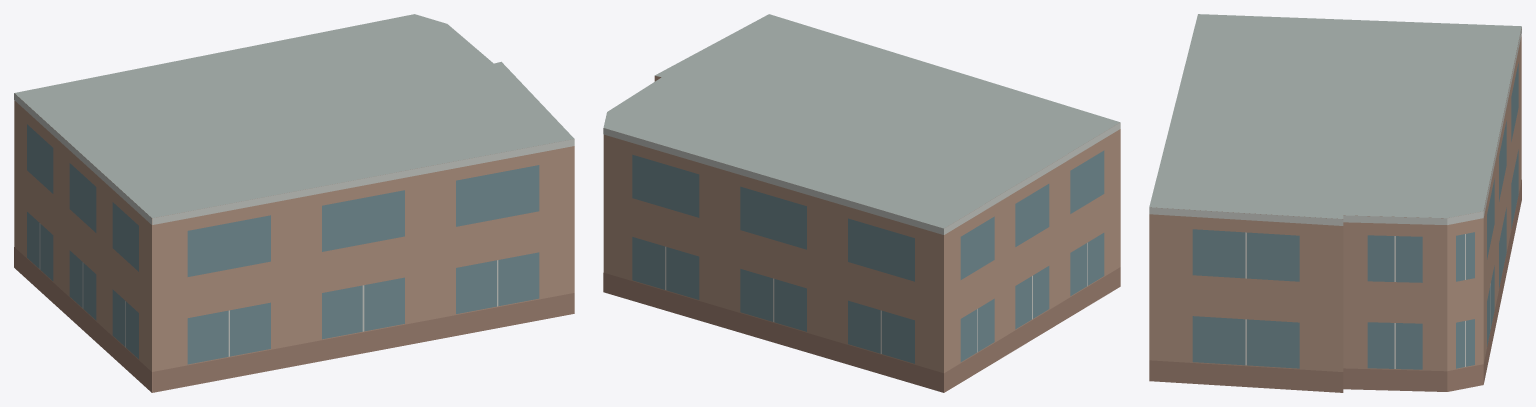
Rendered from survey-upis-32529099.glb.
3 renders of one model, left to right at view 1: azimuth 30°, elevation 25°; view 2: azimuth 150°, elevation 25°; view 3: azimuth 270°, elevation 25°, orthographic. The views are drawn at different scales.
Visible parts, largest first — view 1: survey-upis-32529099.tmp; view 2: survey-upis-32529099.tmp; view 3: survey-upis-32529099.tmp.
Boxes of the visible parts, x1,y1,x2,y2 form: survey-upis-32529099.tmp: (14,14,574,392); survey-upis-32529099.tmp: (603,14,1120,392); survey-upis-32529099.tmp: (1149,14,1521,392).
Bounding box in the file's own units: 15.45 × 6.1 × 11.86.
